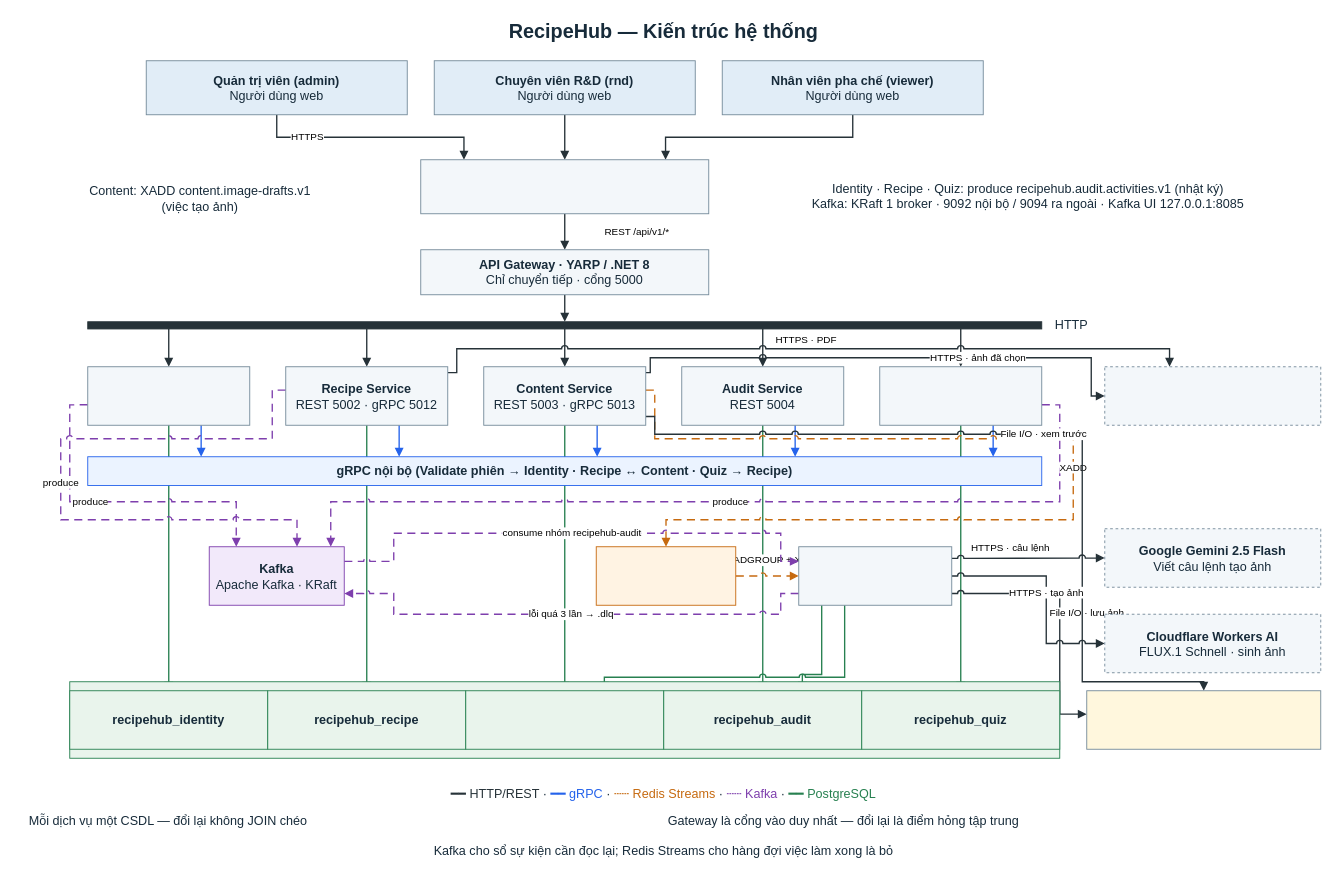
Some shapes in this 1337 by 877 pixel diagram are drawn without their labels. The shapes that lost their labels are listed below. From the top down, each one's centre as x and y in pixels, then its label:
the point at 564,186: Web · Next.js 16 / React 19 Ba vai trò · cổng 3000
the point at 168,395: Identity Service REST 5001 · gRPC 5011
the point at 960,395: Quiz Service REST 5005
the point at 1212,395: Cloudinary Ảnh đã chọn · PDF
the point at 665,575: Redis 7 Streams 6380 → 6379
the point at 875,575: Background Worker .NET 8 · không HTTP
the point at 564,719: recipehub_content
the point at 1203,719: temp-drafts · Docker volume Ảnh chờ R&D chọn · 30 phút
